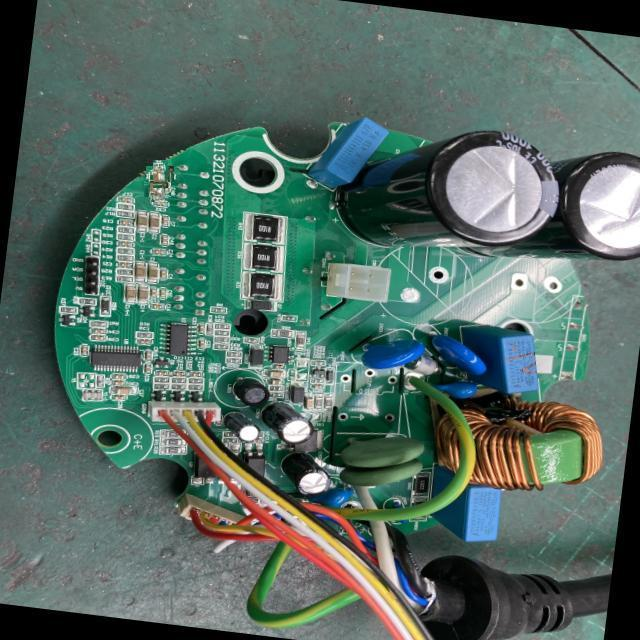damged: (149, 163, 171, 186), (147, 178, 168, 200)
